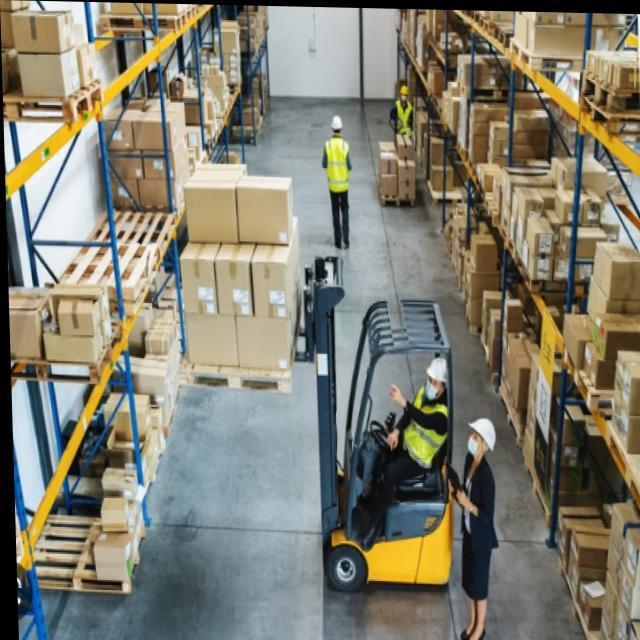boots: (357, 503, 385, 556), (333, 239, 353, 251)
helmet: (467, 416, 498, 458), (426, 354, 450, 400), (329, 114, 344, 136), (398, 85, 410, 103)
vest: (400, 383, 452, 473), (325, 137, 352, 194), (394, 99, 413, 133)
